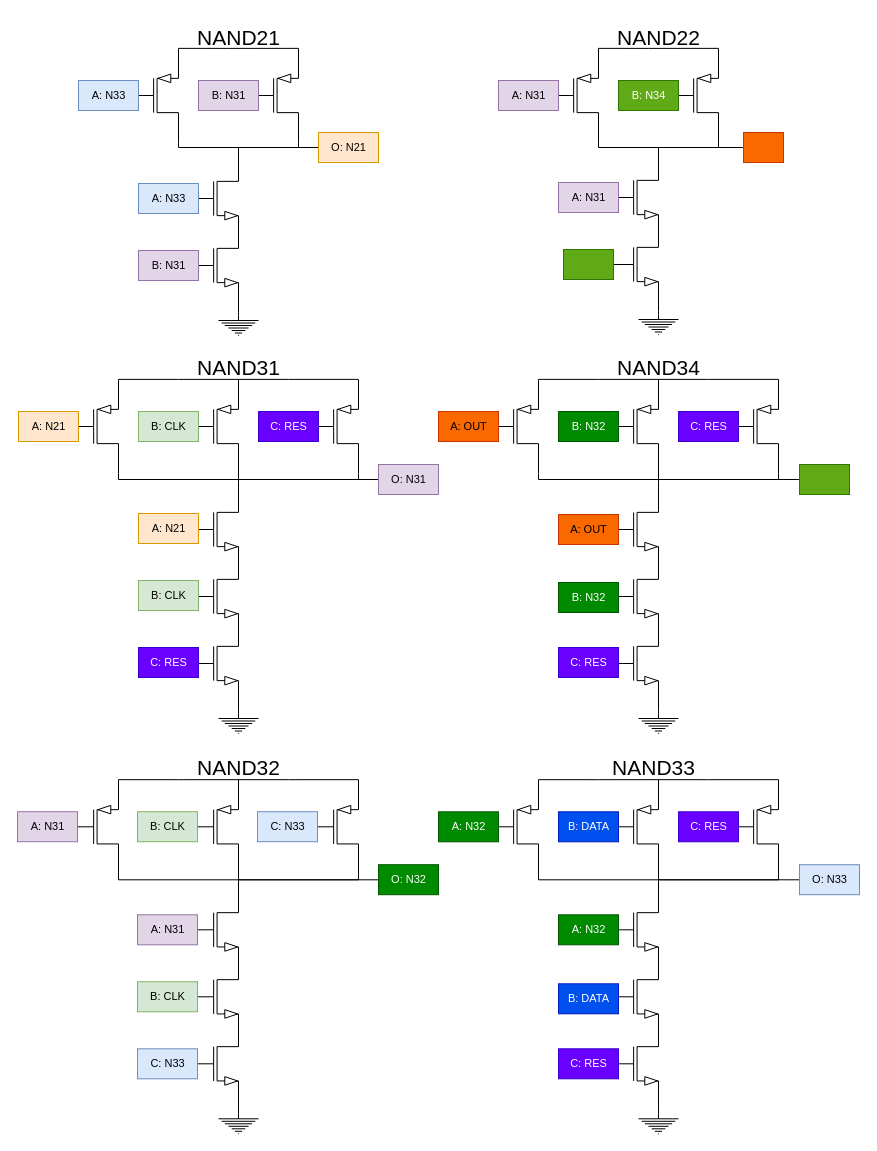
Image size: 877x1151. Some labels were removed from this diagram. Here are the shapes that lost their labels. From the top down, the centre of each, then its label:
At (x=763, y=147): "O:Q".
At (x=588, y=264): "B: Qn".
At (x=824, y=479): "O: Qn".
